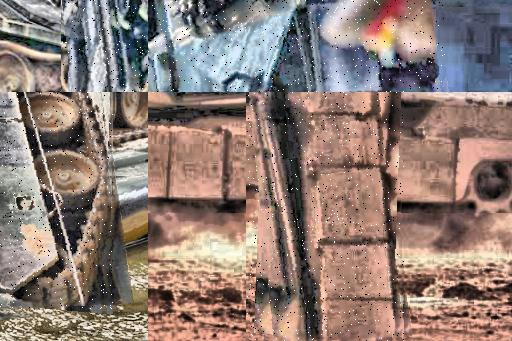tanks: (248, 93, 404, 341), (149, 1, 436, 93), (1, 93, 114, 313), (393, 1, 512, 93), (62, 1, 149, 93)
